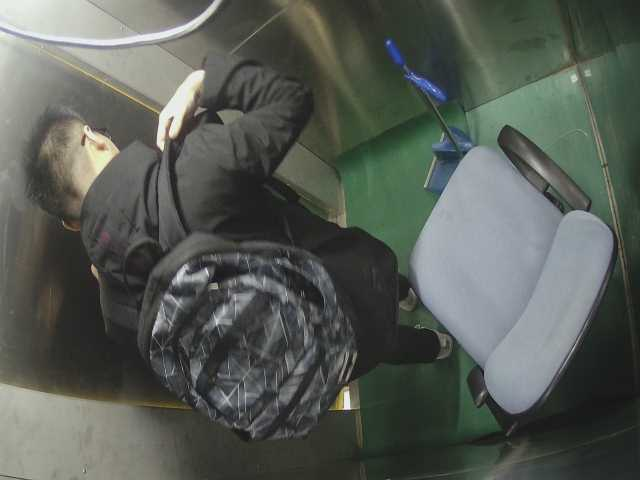bag: (131, 224, 351, 429)
broom: (370, 30, 483, 195)
chair: (392, 107, 613, 431)
person: (19, 86, 457, 371)
